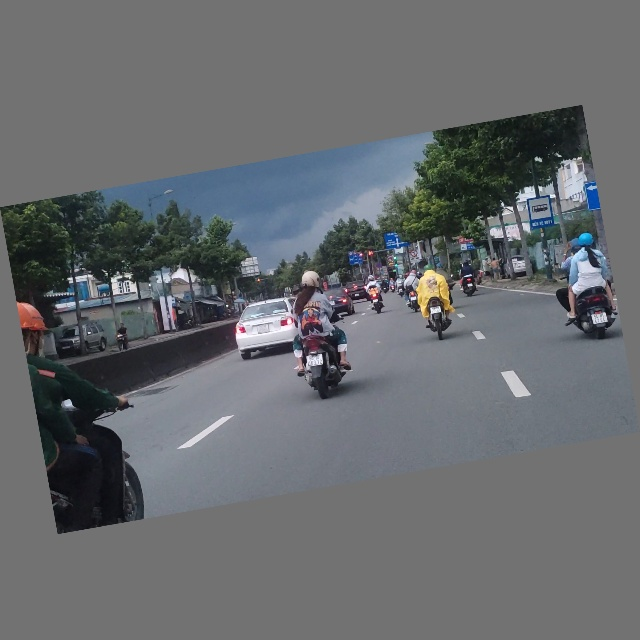I.434a: (526, 195, 554, 229)
P.137: (410, 250, 418, 258)
R.415a: (348, 253, 363, 266)
